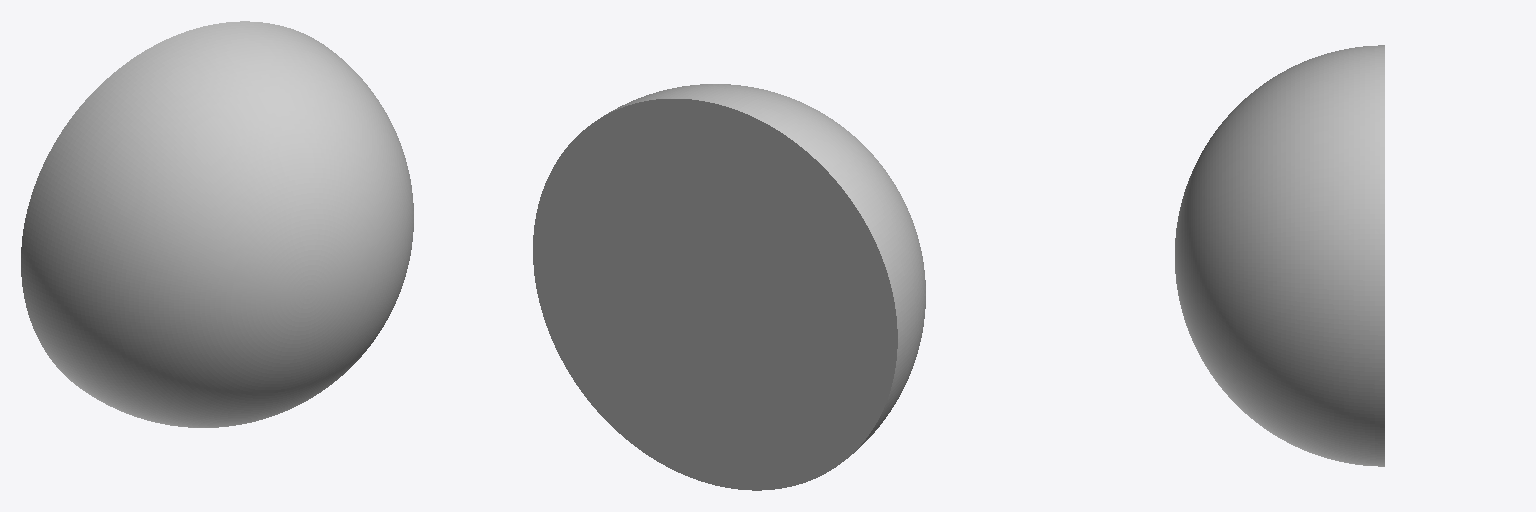
Rendered from PacmanLower.obj.
3 views of the same model, side by side, from view 1: azimuth 30°, elevation 25°; view 2: azimuth 150°, elevation 25°; view 3: azimuth 270°, elevation 25° (orthographic).
Parts seen in each view (by area): view 1: Sphere.001; view 2: Sphere.001; view 3: Sphere.001.
Part boxes in pixels (bbox=[...]): Sphere.001: bbox=[21, 21, 413, 427]; Sphere.001: bbox=[533, 84, 925, 490]; Sphere.001: bbox=[1175, 45, 1384, 466].
Size of the model in its own units: 1 by 1 by 0.5.